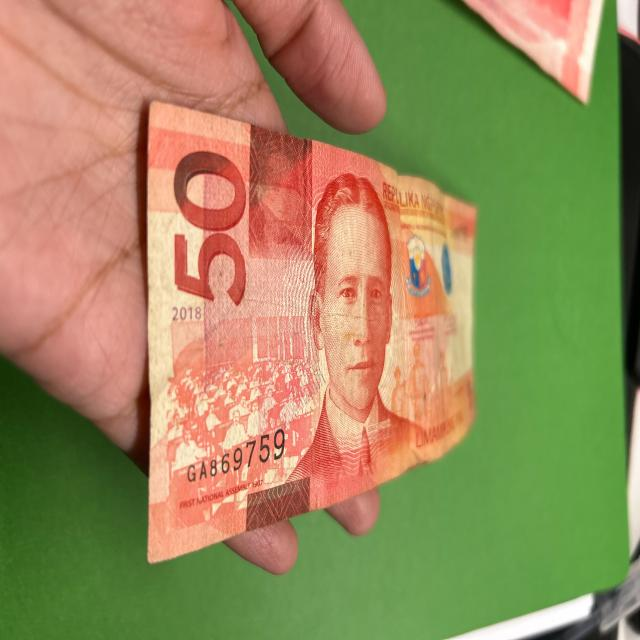concealed_value: (251, 124, 316, 274)
serial_number: (171, 423, 292, 487)
value: (165, 133, 248, 308)
